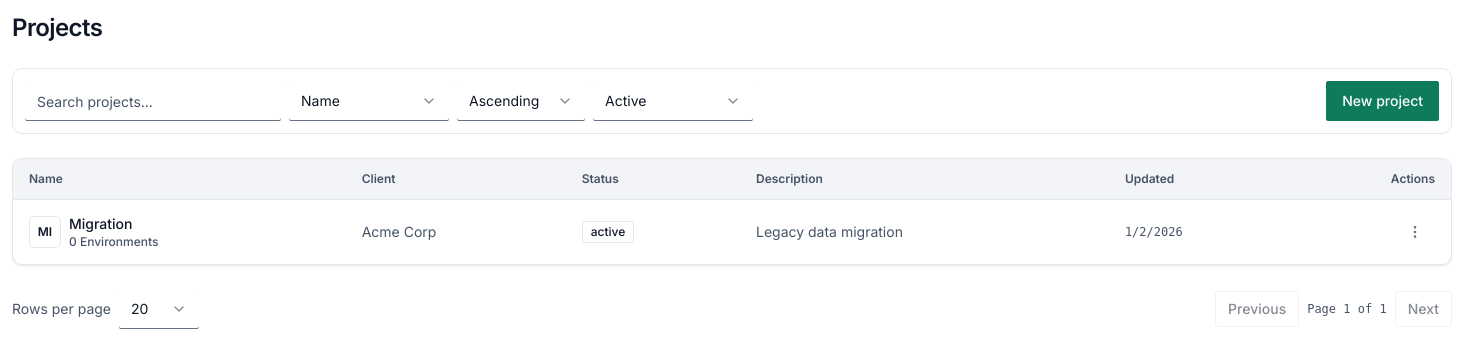
Test: ProjectsPage › RBAC-gated delete/restore › shows Edit to an admin
Expected: the text "Migration" is shown, [69,214,132,232]
Press the mouse on the button named "Actions" at (1415, 232), box [1395,212,1435,252]
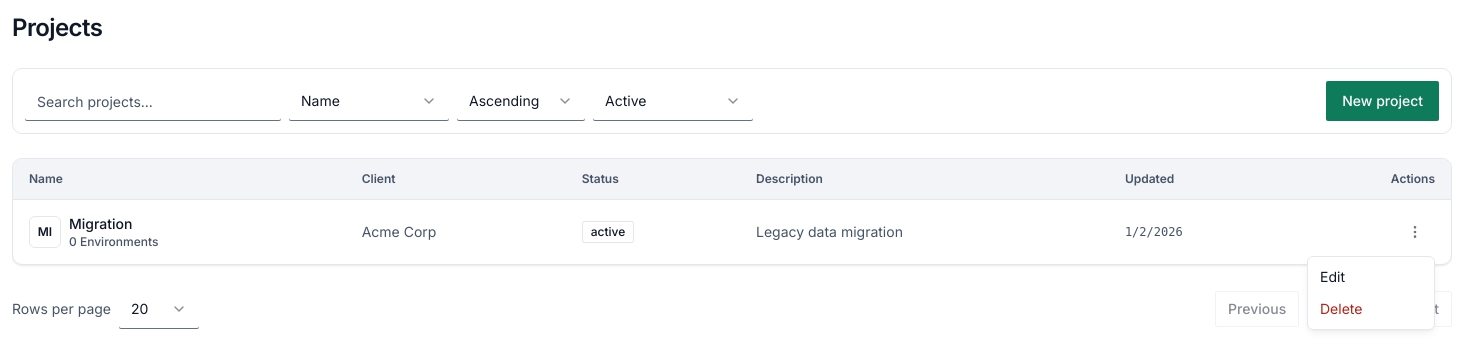
Result: the menu item "Edit" is shown at [1320,268,1345,285]
